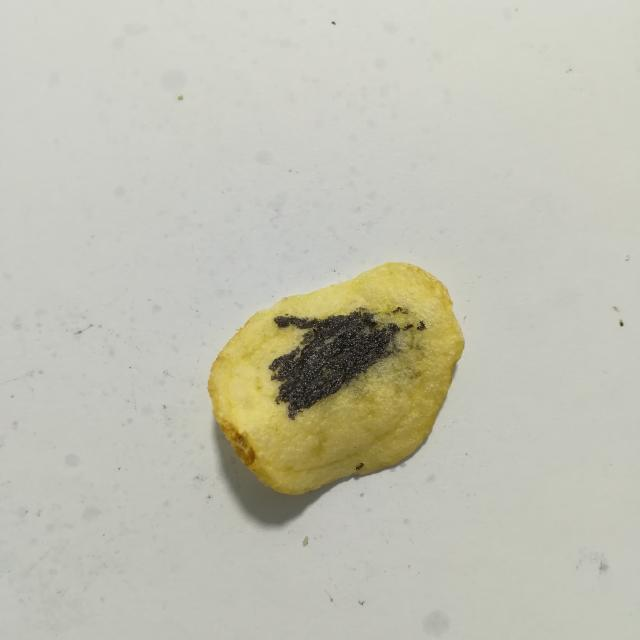chip: (208, 263, 464, 494)
damaged: (269, 308, 401, 419), (385, 307, 403, 316), (417, 320, 427, 331), (403, 323, 413, 330), (356, 463, 364, 471), (401, 309, 410, 315)
semi-damaged: (339, 328, 422, 397), (375, 314, 391, 325)
